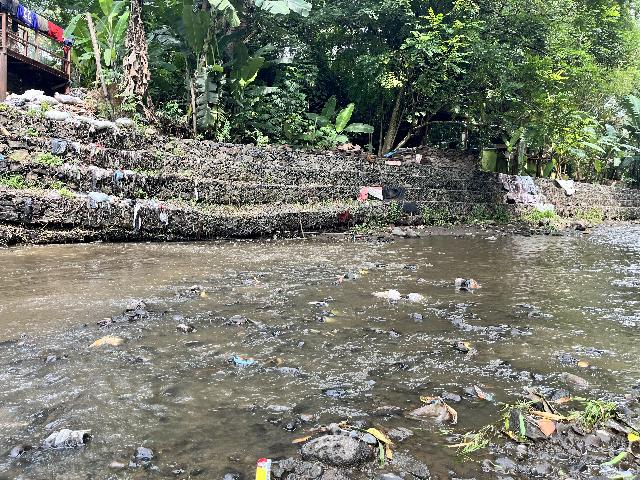Sampah Anorganik: (411, 398, 462, 426), (453, 275, 482, 292), (371, 288, 403, 303), (256, 453, 273, 480), (473, 382, 493, 403), (228, 352, 256, 367), (408, 291, 425, 304), (305, 301, 332, 308), (357, 270, 370, 276)
Sampah Organik: (498, 396, 565, 444), (349, 414, 397, 468), (566, 389, 618, 429), (444, 434, 488, 460), (86, 332, 124, 350), (458, 340, 477, 357), (93, 318, 114, 328), (289, 435, 312, 444), (303, 427, 325, 432), (578, 360, 590, 368), (200, 289, 208, 300), (236, 318, 246, 326), (329, 310, 340, 316), (252, 276, 261, 283), (338, 277, 343, 283)
